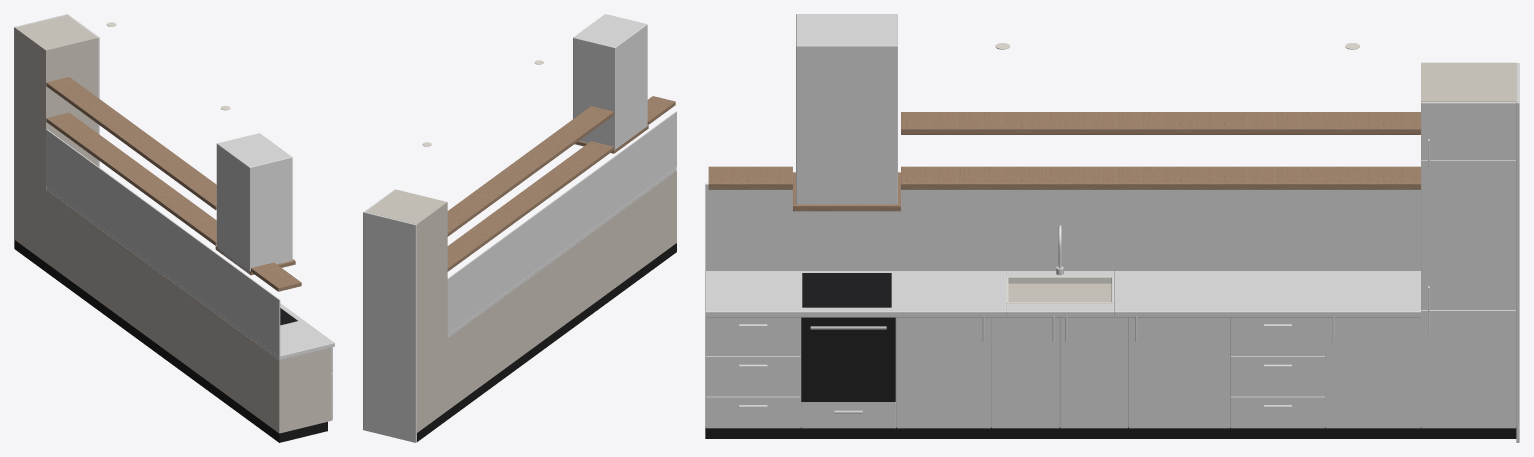
Rendered from kitchen__2_1.glb.
3 renders of one model, left to right at view 1: azimuth 30°, elevation 25°; view 2: azimuth 150°, elevation 25°; view 3: azimuth 270°, elevation 25°, orthographic. The views are drawn at different scales.
Visible parts, largest first — view 1: carcass, splashback, tall carcass, open shelves, hood, plinth, worktop, fronts; view 2: carcass, splashback, fridge end panel, open shelves, hood, tall carcass, plinth, worktop; view 3: fronts, splashback, worktop, open shelves, hood, plinth, oven, tall carcass, carcass, hob, fridge end panel, sink (+1 smaller).
Part boxes in pixels (x1=…): carcass: x1=46, y1=189, x2=331, y2=433; splashback: x1=46, y1=129, x2=280, y2=356; tall carcass: x1=15, y1=15, x2=98, y2=262; open shelves: x1=46, y1=77, x2=301, y2=291; hood: x1=216, y1=133, x2=292, y2=273; plinth: x1=15, y1=240, x2=327, y2=442; worktop: x1=46, y1=186, x2=334, y2=359; fronts: x1=68, y1=15, x2=332, y2=420; carcass: x1=447, y1=171, x2=676, y2=410; splashback: x1=447, y1=111, x2=676, y2=334; fridge end panel: x1=363, y1=211, x2=416, y2=442; open shelves: x1=447, y1=96, x2=675, y2=271; hood: x1=573, y1=14, x2=647, y2=149; tall carcass: x1=366, y1=189, x2=447, y2=432; plinth: x1=417, y1=243, x2=676, y2=441; worktop: x1=447, y1=167, x2=676, y2=337; fronts: x1=705, y1=102, x2=1515, y2=428; splashback: x1=705, y1=183, x2=1420, y2=270; worktop: x1=705, y1=271, x2=1420, y2=317; open shelves: x1=708, y1=112, x2=1420, y2=189; hood: x1=796, y1=14, x2=897, y2=204; plinth: x1=705, y1=427, x2=1516, y2=438; oven: x1=801, y1=317, x2=895, y2=402; tall carcass: x1=1421, y1=62, x2=1516, y2=426; carcass: x1=705, y1=283, x2=1420, y2=427; hob: x1=802, y1=273, x2=891, y2=307; fridge end panel: x1=1516, y1=63, x2=1519, y2=442; sink: x1=1006, y1=276, x2=1113, y2=303.
Bounding box in the file's own units: 0.63 × 2.7 × 5.12.
Materials: 14 (1 with a texture image).
